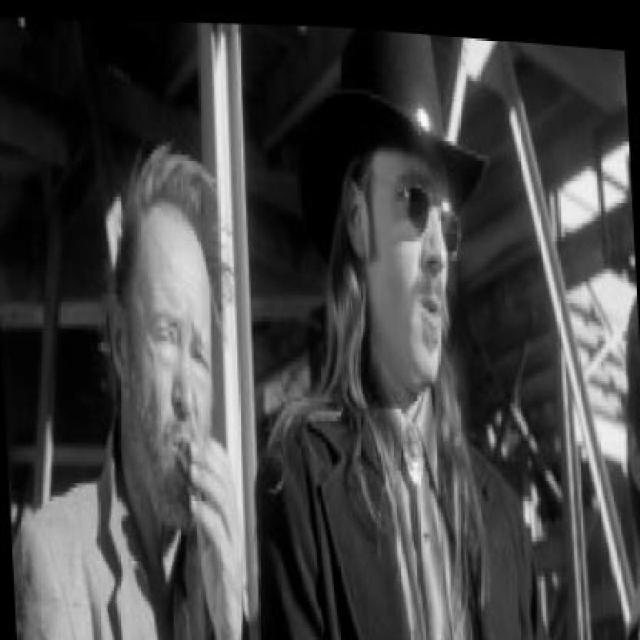hat: (284, 18, 496, 274)
